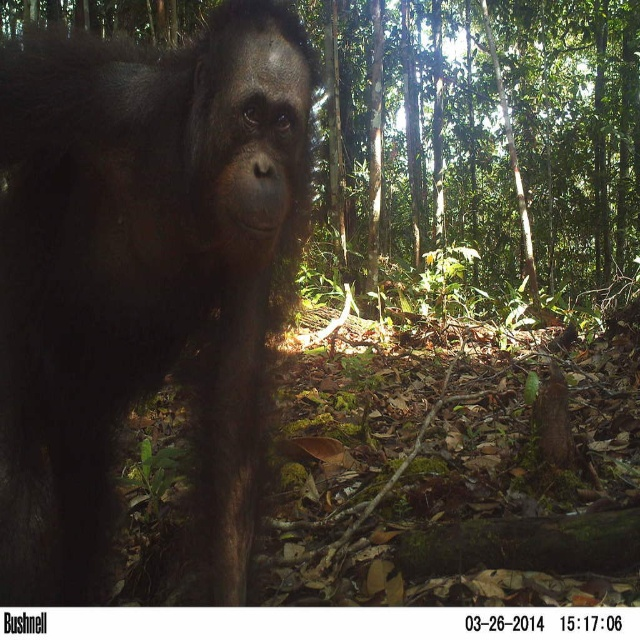Monkey: (0, 0, 321, 605)
